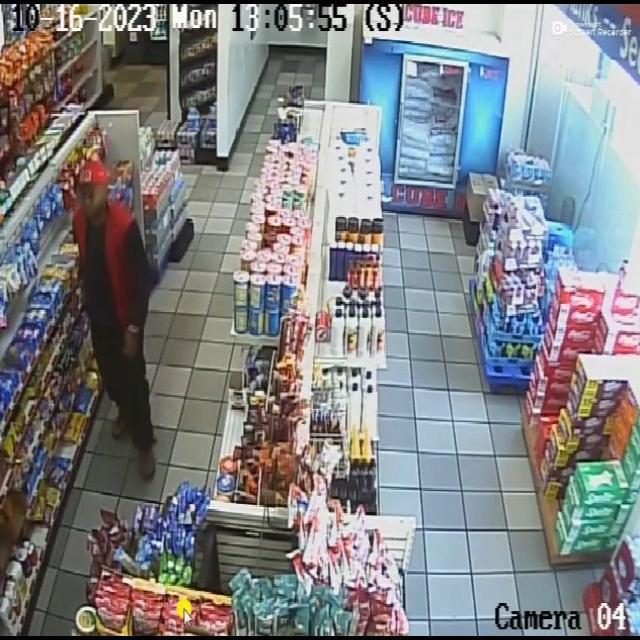Normal: (74, 152, 160, 481)
